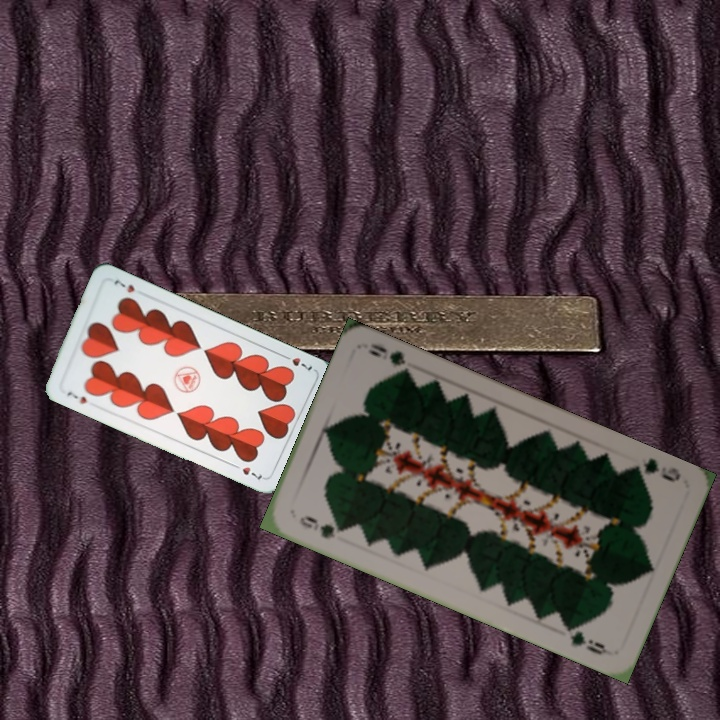G9: (626, 454, 683, 485), (295, 511, 349, 541)
H7: (278, 350, 315, 374), (63, 387, 90, 407)
